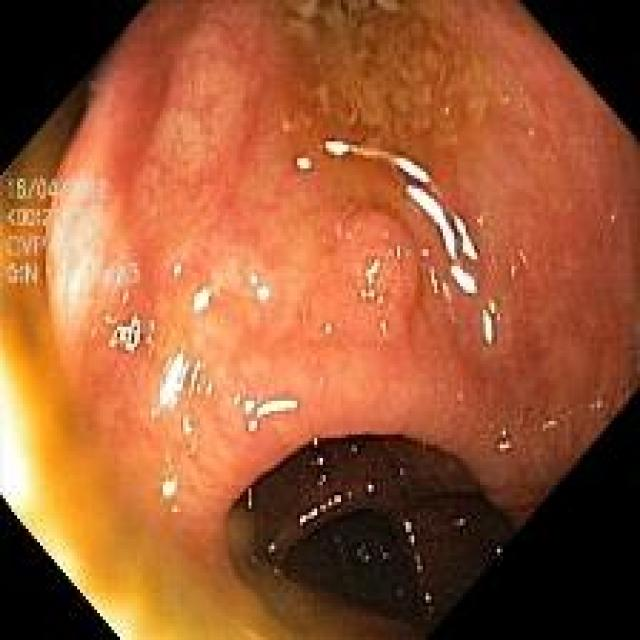Polyps: (330, 212, 419, 343)
